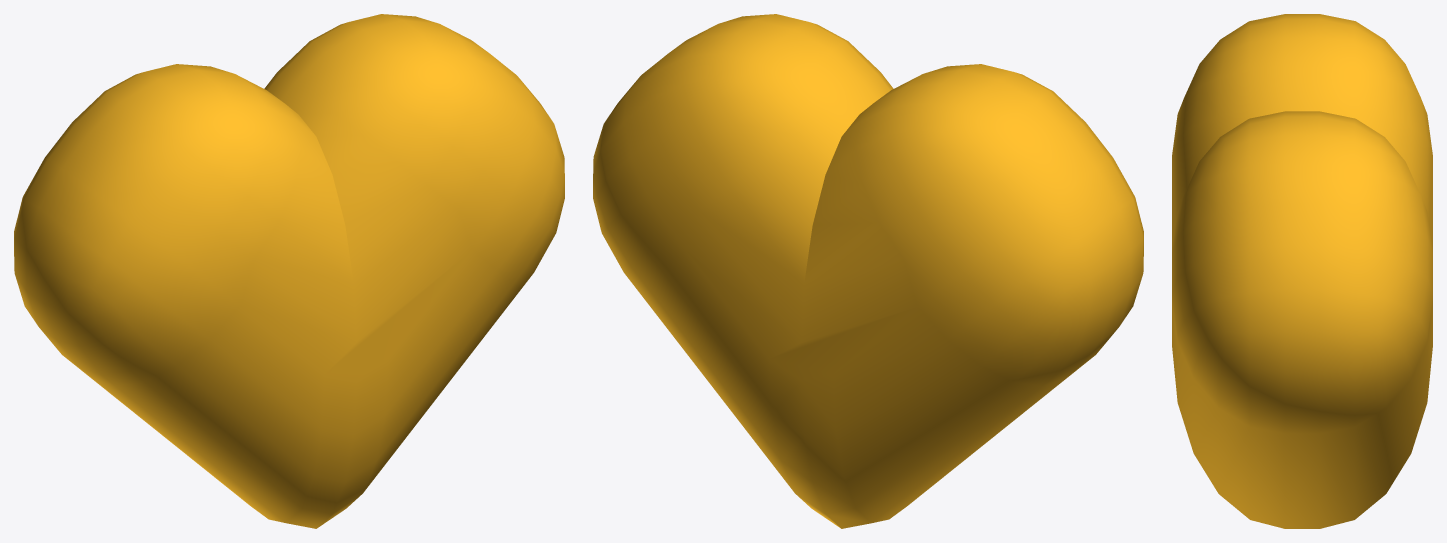
Rendered from heart_teamYellow-col.glb.
The picture shows the model from 3 angles, left to right: view 1: azimuth 30°, elevation 25°; view 2: azimuth 150°, elevation 25°; view 3: azimuth 270°, elevation 25°; orthographic projection. The views are drawn at different scales.
Visible parts, largest first — view 1: heart_teamYellow-col; view 2: heart_teamYellow-col; view 3: heart_teamYellow-col.
Part boxes in pixels (x1,y1,x2,y2): heart_teamYellow-col: [14, 14, 564, 528]; heart_teamYellow-col: [593, 14, 1143, 528]; heart_teamYellow-col: [1172, 14, 1432, 528].
Size of the model in its own units: 1.08 by 0.939 by 0.4932.
